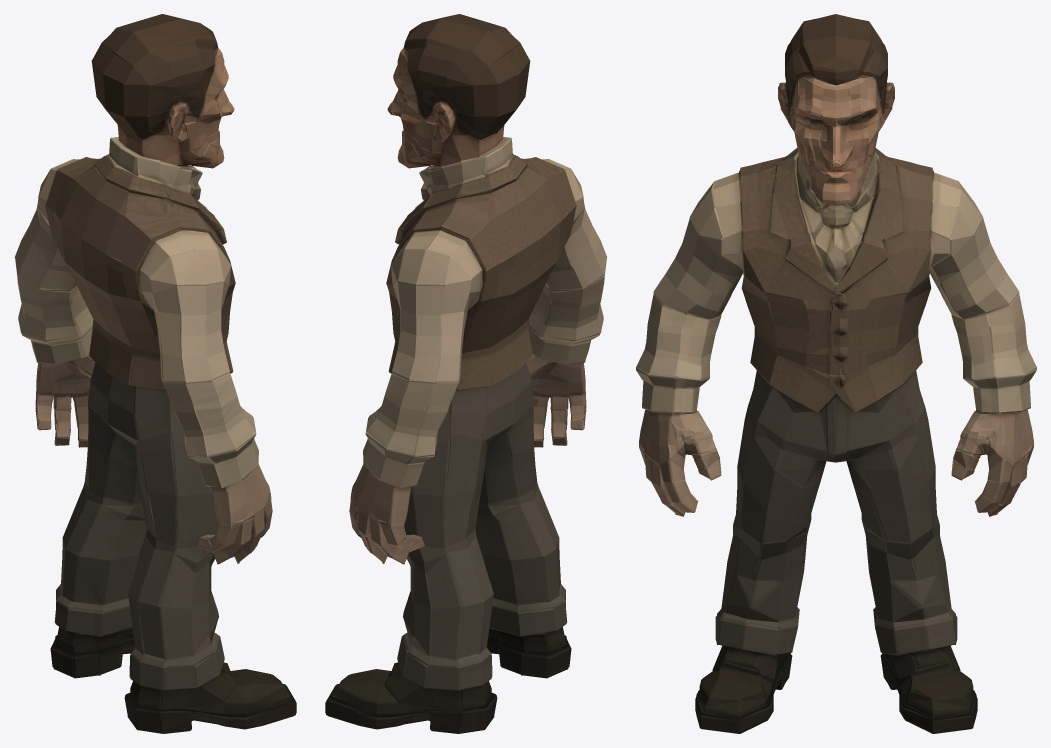
Rendered from tripo_convert_641a70cf-6fdf-42de-9c70-4e4921f026e0.fbx.
The picture shows the model from 3 angles, left to right: view 1: azimuth 30°, elevation 25°; view 2: azimuth 150°, elevation 25°; view 3: azimuth 270°, elevation 25°; orthographic projection.
Parts seen in each view (by area): view 1: tripo_node_641a70cf; view 2: tripo_node_641a70cf; view 3: tripo_node_641a70cf.
Part boxes in pixels (x1,y1,x2,y2): tripo_node_641a70cf: (15,14,296,733); tripo_node_641a70cf: (325,14,606,733); tripo_node_641a70cf: (636,14,1036,733).
Size of the model in its own units: 0.2505 by 1 by 0.5421.
1 material, 1 textured.
